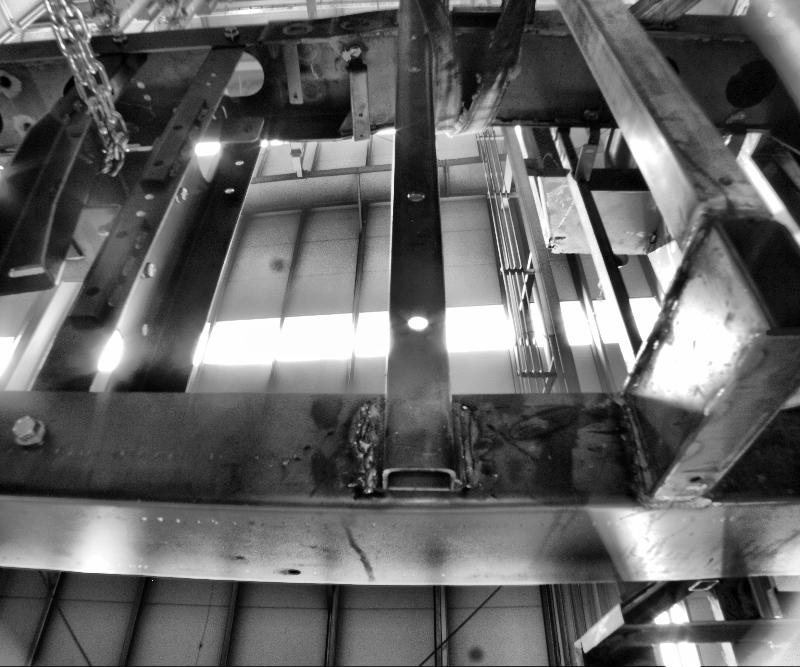bolt: (12, 414, 50, 447), (138, 261, 158, 280), (172, 185, 190, 205), (110, 29, 130, 45), (219, 26, 240, 41), (349, 47, 361, 57)
bracket: (342, 45, 370, 145), (213, 112, 265, 145), (568, 139, 604, 184), (280, 41, 304, 106)
hole: (402, 310, 430, 337), (402, 187, 426, 204), (713, 178, 731, 190), (138, 322, 150, 337), (84, 287, 98, 298), (686, 476, 698, 488), (112, 232, 125, 240), (406, 67, 420, 74), (134, 211, 146, 218), (143, 196, 153, 202), (583, 149, 593, 155), (286, 570, 298, 575), (224, 188, 232, 195), (516, 3, 524, 10), (234, 160, 242, 166), (408, 35, 416, 40), (292, 94, 298, 100), (356, 113, 362, 118), (358, 135, 364, 138)
welding: (447, 401, 486, 488), (352, 392, 372, 492)
